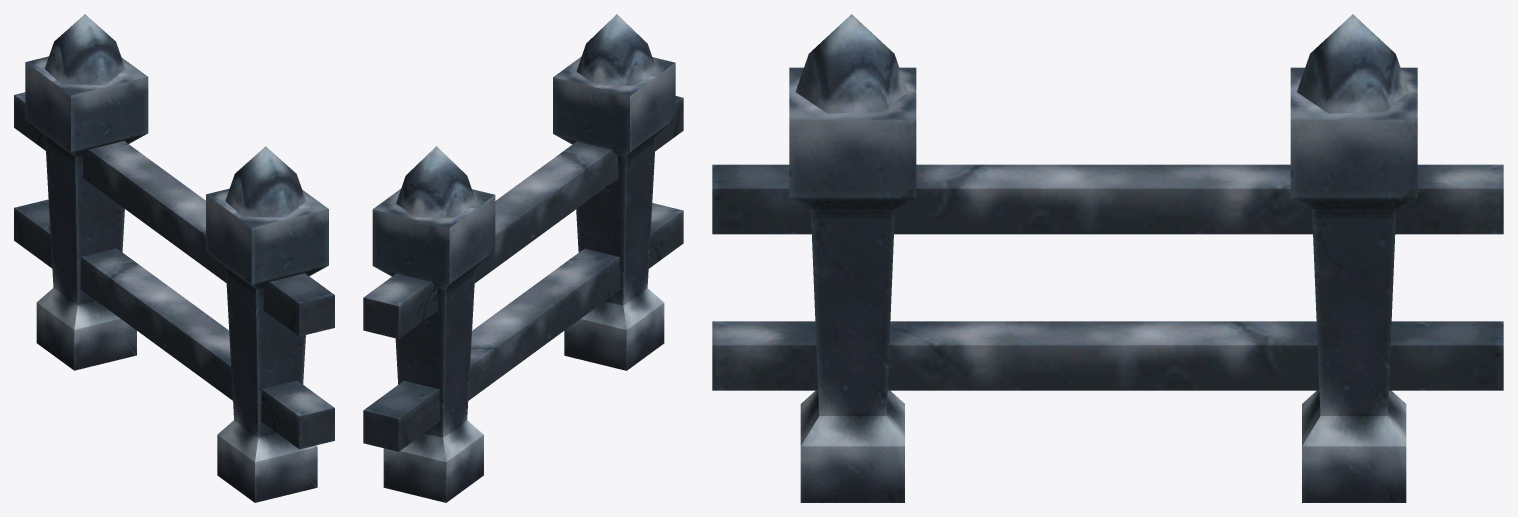
File: Ice_fences01.FBX
3 views of the same model, side by side, from view 1: azimuth 30°, elevation 25°; view 2: azimuth 150°, elevation 25°; view 3: azimuth 270°, elevation 25° (orthographic). The views are drawn at different scales.
Parts seen in each view (by area): view 1: Object15651; view 2: Object15651; view 3: Object15651.
Part boxes in pixels (x1,y1,x2,y2): Object15651: [14, 14, 334, 502]; Object15651: [363, 14, 683, 502]; Object15651: [712, 14, 1503, 502].
Size of the model in its own units: 31.46 by 131 by 202.
